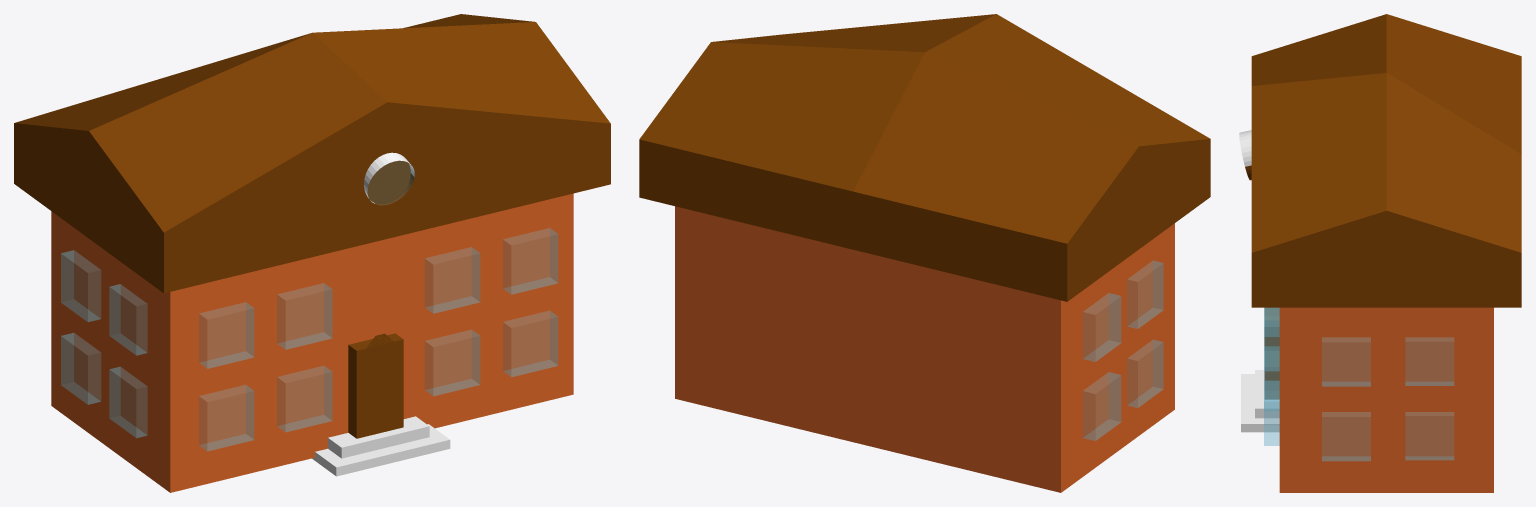
File: batiorange.glb
The picture shows the model from 3 angles, left to right: view 1: azimuth 30°, elevation 25°; view 2: azimuth 150°, elevation 25°; view 3: azimuth 270°, elevation 25°; orthographic projection. The views are drawn at different scales.
Parts seen in each view (by area): view 1: Cube.001, Cube, Cube.010, Cube.003, Cube.004, Cube.002, Cube.008, Cube.009, Cube.005, Cube.006, Cube.007, Cube.012 (+5 smaller); view 2: Cube.001, Cube, Cube.014, Cube.015, Cube.016, Cube.013; view 3: Cube.001, Cube, Cube.017, Cube.020, Cube.018, Cube.019, Cube.010, Cube.012, Cube.007, Cube.006, Cube.008, Cube.011 (+1 smaller).
Part boxes in pixels (left/top/right/bottom): Cube.001: left=14, top=14, right=610, bottom=293; Cube: left=51, top=193, right=573, bottom=492; Cube.010: left=348, top=333, right=403, bottom=438; Cube.003: left=277, top=283, right=332, bottom=349; Cube.004: left=277, top=366, right=332, bottom=431; Cube.002: left=199, top=302, right=253, bottom=368; Cube.008: left=503, top=228, right=557, bottom=294; Cube.009: left=425, top=247, right=479, bottom=313; Cube.005: left=199, top=385, right=253, bottom=451; Cube.006: left=425, top=330, right=479, bottom=395; Cube.007: left=503, top=311, right=557, bottom=376; Cube.012: left=312, top=424, right=450, bottom=476; Cube.001: left=639, top=14, right=1210, bottom=301; Cube: left=675, top=206, right=1174, bottom=492; Cube.014: left=1083, top=372, right=1120, bottom=440; Cube.015: left=1083, top=293, right=1120, bottom=361; Cube.016: left=1127, top=260, right=1163, bottom=328; Cube.013: left=1127, top=340, right=1163, bottom=407; Cube.001: left=1239, top=14, right=1521, bottom=307; Cube: left=1279, top=307, right=1493, bottom=492; Cube.017: left=1322, top=337, right=1370, bottom=386; Cube.020: left=1322, top=412, right=1370, bottom=460; Cube.018: left=1405, top=337, right=1453, bottom=385; Cube.019: left=1405, top=412, right=1453, bottom=459; Cube.010: left=1264, top=308, right=1279, bottom=399; Cube.012: left=1241, top=374, right=1279, bottom=432; Cube.007: left=1264, top=381, right=1279, bottom=445; Cube.006: left=1264, top=346, right=1279, bottom=410; Cube.008: left=1264, top=308, right=1279, bottom=370; Cube.011: left=1255, top=370, right=1279, bottom=418.
Bounding box in the file's own units: 19.02 × 15.08 × 11.55.
